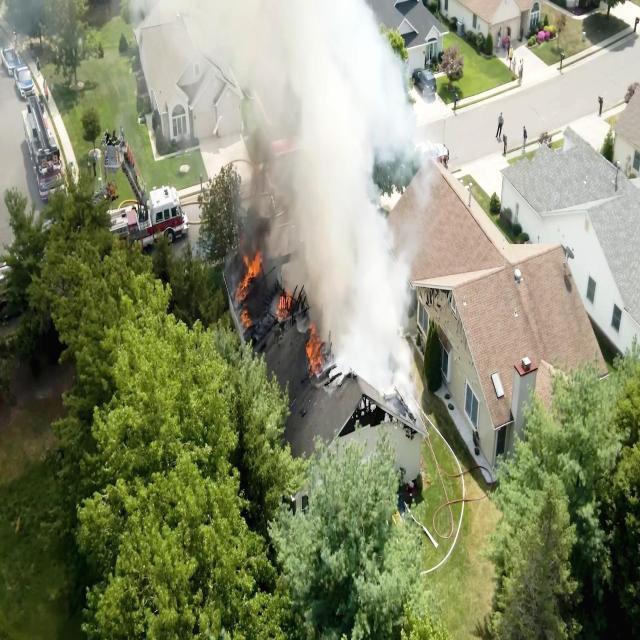Fire: (238, 252, 268, 336), (302, 318, 327, 386), (276, 279, 295, 336)
Smoke: (327, 0, 425, 414), (174, 5, 328, 111), (241, 90, 324, 244)
